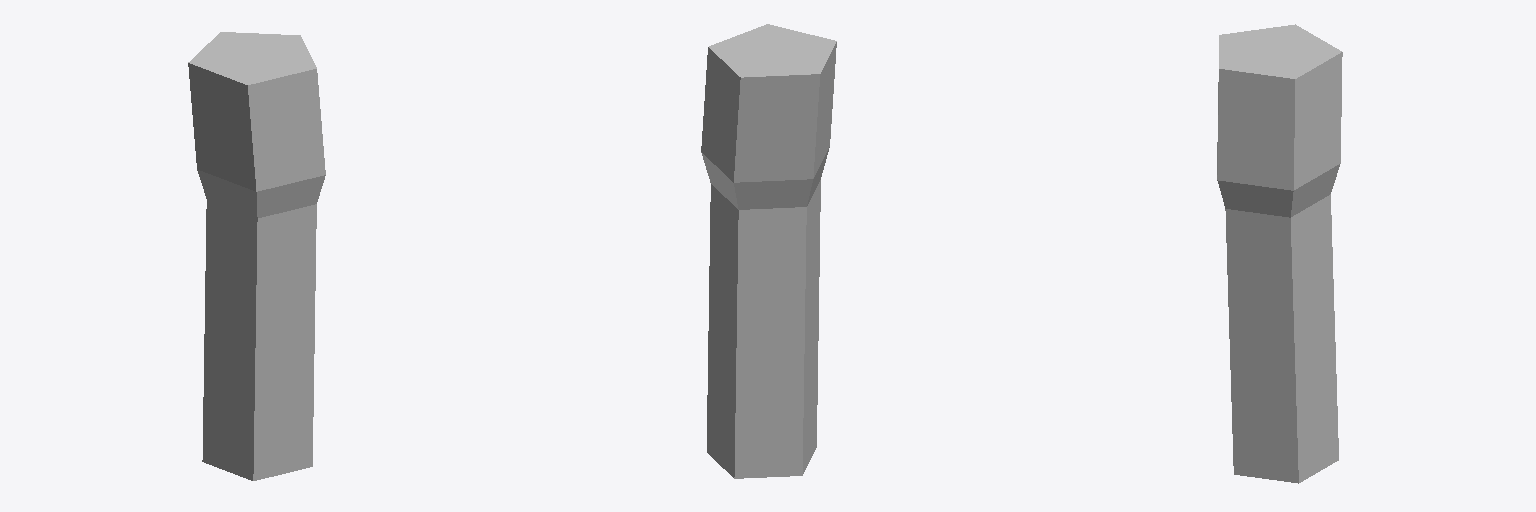
File: pole_001.obj
3 renders of one model, left to right at view 1: azimuth 30°, elevation 25°; view 2: azimuth 150°, elevation 25°; view 3: azimuth 270°, elevation 25°, orthographic.
Visible parts, largest first — view 1: pole_001_Cylinder.009; view 2: pole_001_Cylinder.009; view 3: pole_001_Cylinder.009.
Part boxes in pixels (bbox=[...]): pole_001_Cylinder.009: bbox=[188, 32, 325, 480]; pole_001_Cylinder.009: bbox=[701, 24, 836, 478]; pole_001_Cylinder.009: bbox=[1217, 24, 1342, 483].
Bounding box in the file's own units: 0.1888 × 0.6074 × 0.1703.